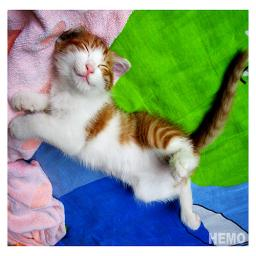catnose: (84, 59, 96, 77)
